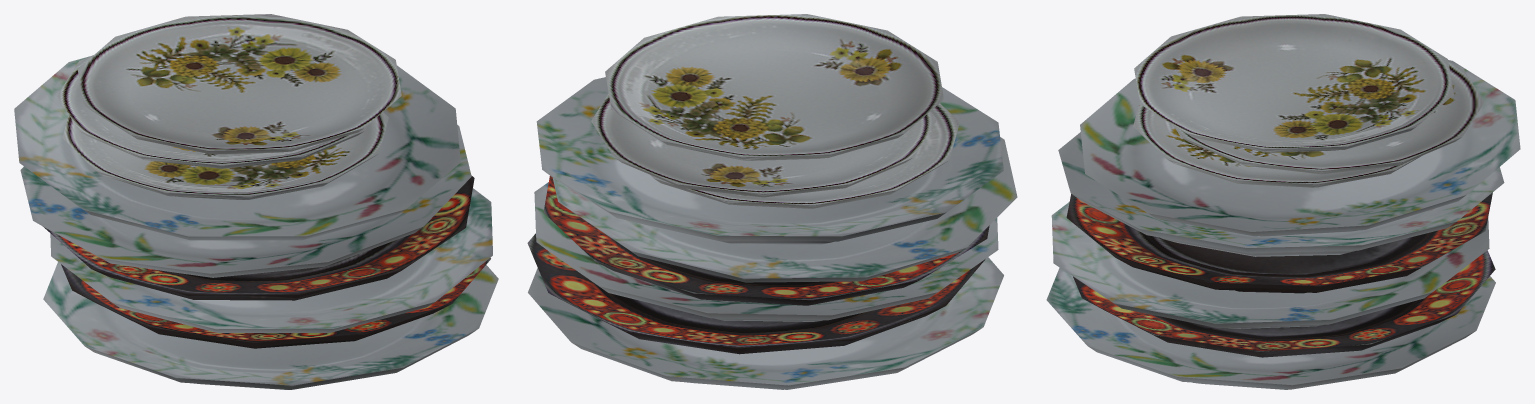
File: stack_dishes-2.FBX
The picture shows the model from 3 angles, left to right: view 1: azimuth 30°, elevation 25°; view 2: azimuth 150°, elevation 25°; view 3: azimuth 270°, elevation 25°; orthographic projection. The views are drawn at different scales.
Parts seen in each view (by area): view 1: stack_dishes-2_LOD0; view 2: stack_dishes-2_LOD0; view 3: stack_dishes-2_LOD0.
Part boxes in pixels (box(x1,y1,x2,y2)): stack_dishes-2_LOD0: box(14, 14, 498, 389); stack_dishes-2_LOD0: box(527, 14, 1017, 389); stack_dishes-2_LOD0: box(1046, 14, 1520, 389).
Size of what is drawn, in the model's own units: 18.06 by 10.05 by 18.22.
